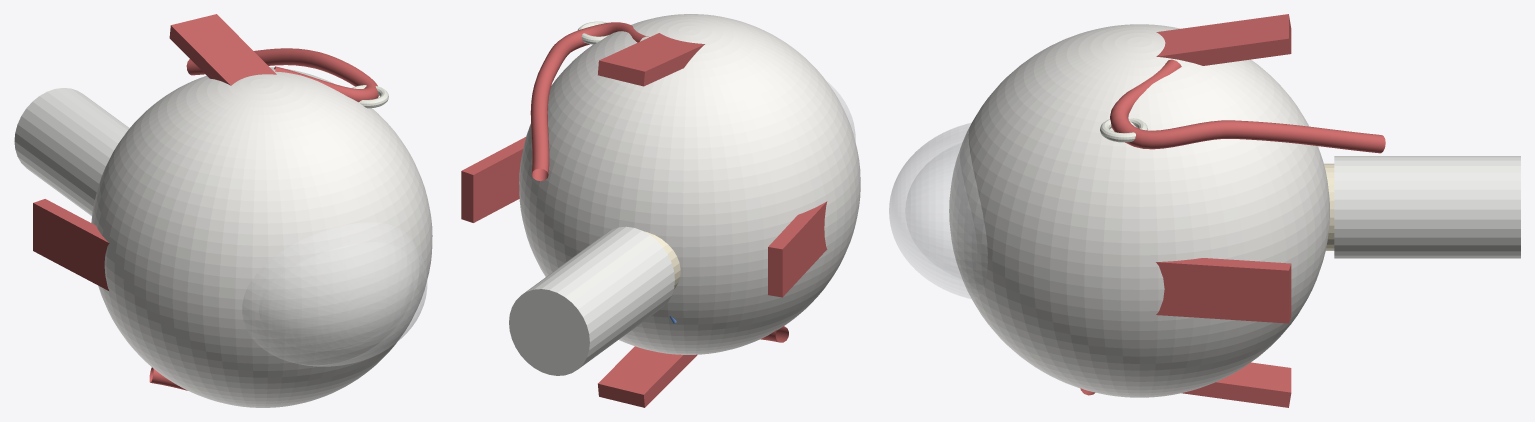
Rendered from eye_realistic.glb.
3 renders of one model, left to right at view 1: azimuth 30°, elevation 25°; view 2: azimuth 150°, elevation 25°; view 3: azimuth 270°, elevation 25°, orthographic. The views are drawn at different scales.
Visible parts, largest first — view 1: Sclera_Cutaway, Cornea, Dural_Sheath, Sclera_Intact, Lateral_Rectus, Superior_Rectus, Superior_Oblique, Anterior_Chamber; view 2: Sclera_Cutaway, Sclera_Intact, Dural_Sheath, Medial_Rectus, Inferior_Rectus, Lateral_Rectus, Superior_Oblique, Superior_Rectus, Optic_Nerve; view 3: Sclera_Intact, Sclera_Cutaway, Dural_Sheath, Cornea, Medial_Rectus, Superior_Oblique, Superior_Rectus, Anterior_Chamber, Inferior_Rectus, Optic_Nerve, Trochlea_Pulley.
Boxes of the visible parts, left/top/right/bottom form: Sclera_Cutaway: left=91, top=75, right=432, bottom=407; Cornea: left=242, top=222, right=427, bottom=366; Dural_Sheath: left=14, top=88, right=129, bottom=215; Sclera_Intact: left=254, top=67, right=432, bottom=248; Lateral_Rectus: left=33, top=199, right=109, bottom=290; Superior_Rectus: left=169, top=14, right=276, bottom=85; Superior_Oblique: left=186, top=48, right=378, bottom=102; Anterior_Chamber: left=337, top=267, right=413, bottom=349; Sclera_Cutaway: left=519, top=16, right=860, bottom=354; Sclera_Intact: left=519, top=14, right=726, bottom=244; Dural_Sheath: left=509, top=226, right=674, bottom=375; Medial_Rectus: left=461, top=137, right=525, bottom=222; Inferior_Rectus: left=598, top=346, right=697, bottom=407; Lateral_Rectus: left=768, top=201, right=827, bottom=297; Superior_Oblique: left=530, top=22, right=649, bottom=181; Superior_Rectus: left=598, top=33, right=704, bottom=86; Optic_Nerve: left=644, top=231, right=680, bottom=288; Sclera_Intact: left=1015, top=41, right=1329, bottom=289; Sclera_Cutaway: left=949, top=24, right=1329, bottom=397; Dural_Sheath: left=1334, top=156, right=1520, bottom=258; Cornea: left=889, top=123, right=987, bottom=299; Medial_Rectus: left=1156, top=258, right=1291, bottom=323; Superior_Oblique: left=1110, top=59, right=1385, bottom=153; Superior_Rectus: left=1156, top=14, right=1291, bottom=65; Anterior_Chamber: left=906, top=143, right=962, bottom=279; Inferior_Rectus: left=1181, top=362, right=1291, bottom=407; Optic_Nerve: left=1324, top=163, right=1334, bottom=250; Trochlea_Pulley: left=1100, top=118, right=1147, bottom=142.
Bounding box in the file's own units: 5.24 × 5.24 × 8.12.
